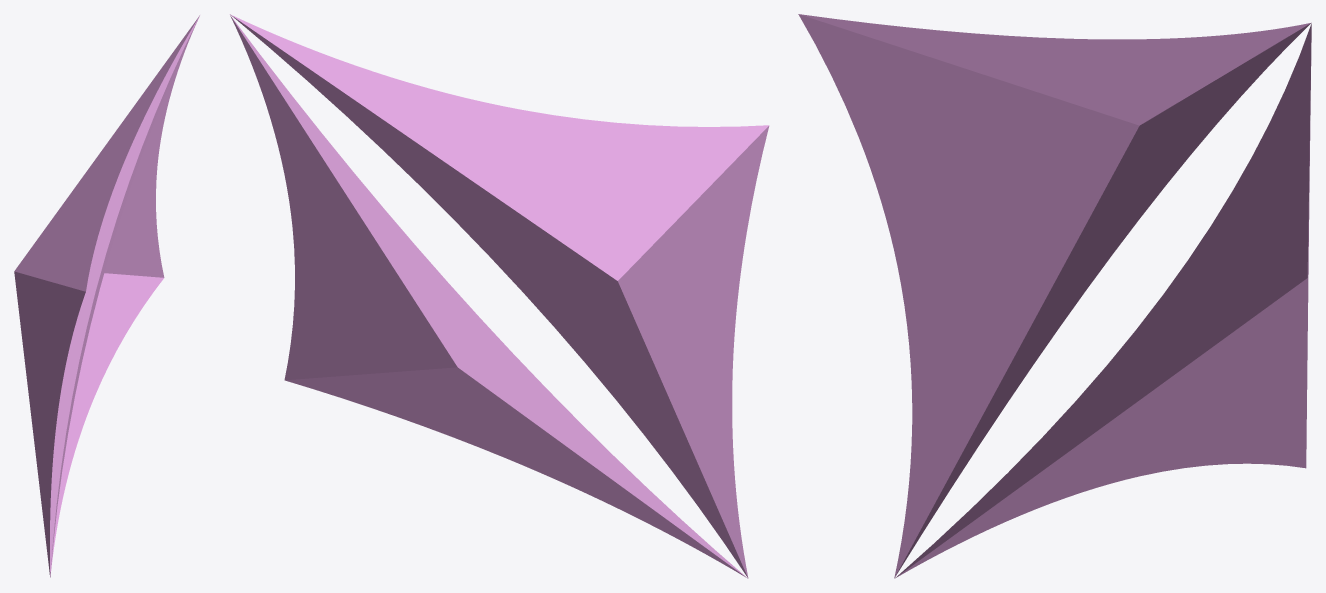
File: TYPE7-3.glb
3 views of the same model, side by side, from view 1: azimuth 30°, elevation 25°; view 2: azimuth 150°, elevation 25°; view 3: azimuth 270°, elevation 25° (orthographic). The views are drawn at different scales.
Visible parts, largest first — view 1: TYPE7-3 (×6); view 2: TYPE7-3 (×6); view 3: TYPE7-3 (×5).
Boxes of the visible parts, x1,y1,x2,y2 form: TYPE7-3 (×6): [14, 15, 199, 577]; TYPE7-3 (×6): [230, 14, 769, 578]; TYPE7-3 (×5): [798, 14, 1311, 578].
Size of the model in its own units: 4.45 by 6.87 by 4.01.
